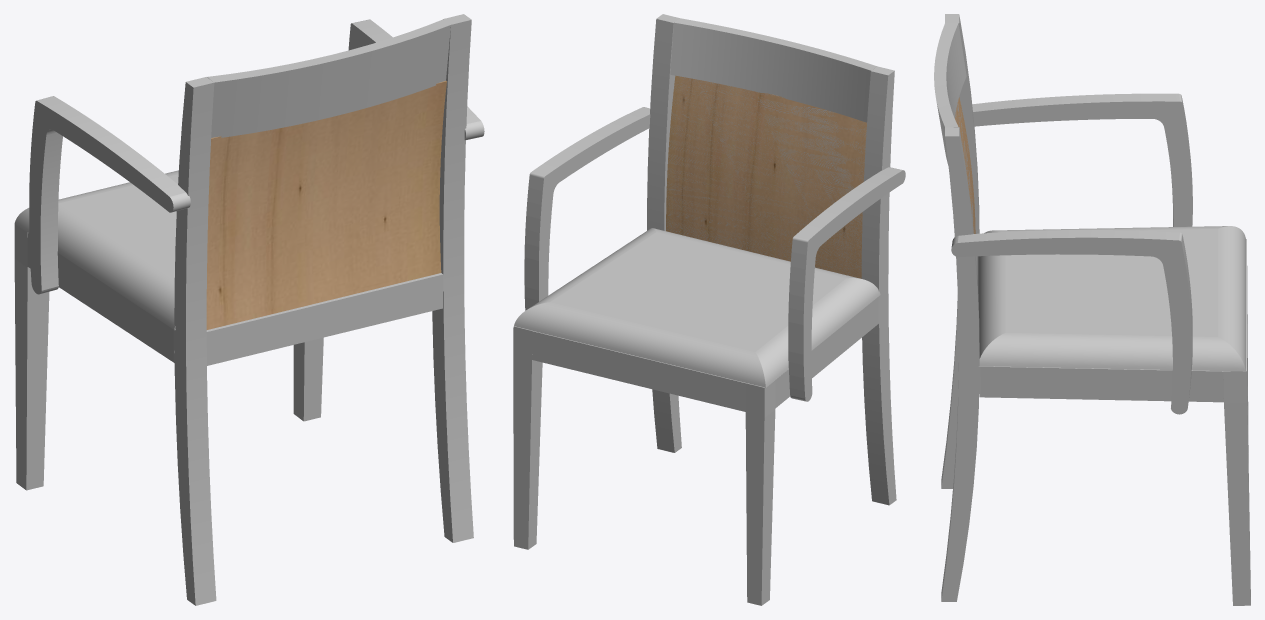
3 views of the same model, side by side, from view 1: azimuth 30°, elevation 25°; view 2: azimuth 150°, elevation 25°; view 3: azimuth 270°, elevation 25° (orthographic). The views are drawn at different scales.
Parts seen in each view (by area): view 1: mesh1_mesh1-geometry, mesh11_mesh11-geometry, mesh13_mesh13-geometry, mesh4_mesh4-geometry, mesh5_mesh5-geometry, mesh23_mesh23-geometry, mesh15_mesh15-geometry, mesh17_mesh17-geometry; view 2: mesh4_mesh4-geometry, mesh1_mesh1-geometry, mesh11_mesh11-geometry, mesh5_mesh5-geometry, mesh13_mesh13-geometry, mesh23_mesh23-geometry, mesh16_mesh16-geometry, mesh17_mesh17-geometry; view 3: mesh4_mesh4-geometry, mesh5_mesh5-geometry, mesh11_mesh11-geometry, mesh18_mesh18-geometry, mesh23_mesh23-geometry, mesh13_mesh13-geometry, mesh1_mesh1-geometry.
Part boxes in pixels (<box>): mesh1_mesh1-geometry: <box>206,81,446,329</box>; mesh11_mesh11-geometry: <box>174,14,473,605</box>; mesh13_mesh13-geometry: <box>207,19,450,137</box>; mesh4_mesh4-geometry: <box>14,170,178,330</box>; mesh5_mesh5-geometry: <box>29,19,484,294</box>; mesh23_mesh23-geometry: <box>14,224,323,490</box>; mesh15_mesh15-geometry: <box>206,273,443,365</box>; mesh17_mesh17-geometry: <box>27,233,174,362</box>; mesh4_mesh4-geometry: <box>514,228,880,387</box>; mesh1_mesh1-geometry: <box>666,75,866,278</box>; mesh11_mesh11-geometry: <box>647,14,896,505</box>; mesh5_mesh5-geometry: <box>524,107,905,401</box>; mesh13_mesh13-geometry: <box>670,18,876,122</box>; mesh23_mesh23-geometry: <box>513,326,775,605</box>; mesh16_mesh16-geometry: <box>532,331,745,411</box>; mesh17_mesh17-geometry: <box>775,296,879,408</box>; mesh4_mesh4-geometry: <box>977,226,1245,371</box>; mesh5_mesh5-geometry: <box>951,93,1192,414</box>; mesh11_mesh11-geometry: <box>941,14,979,601</box>; mesh18_mesh18-geometry: <box>978,366,1223,402</box>; mesh23_mesh23-geometry: <box>1223,239,1250,605</box>; mesh13_mesh13-geometry: <box>934,23,966,164</box>; mesh1_mesh1-geometry: <box>955,97,975,233</box>.
Size of the model in its own units: 0.4997 by 0.7373 by 0.4546.
